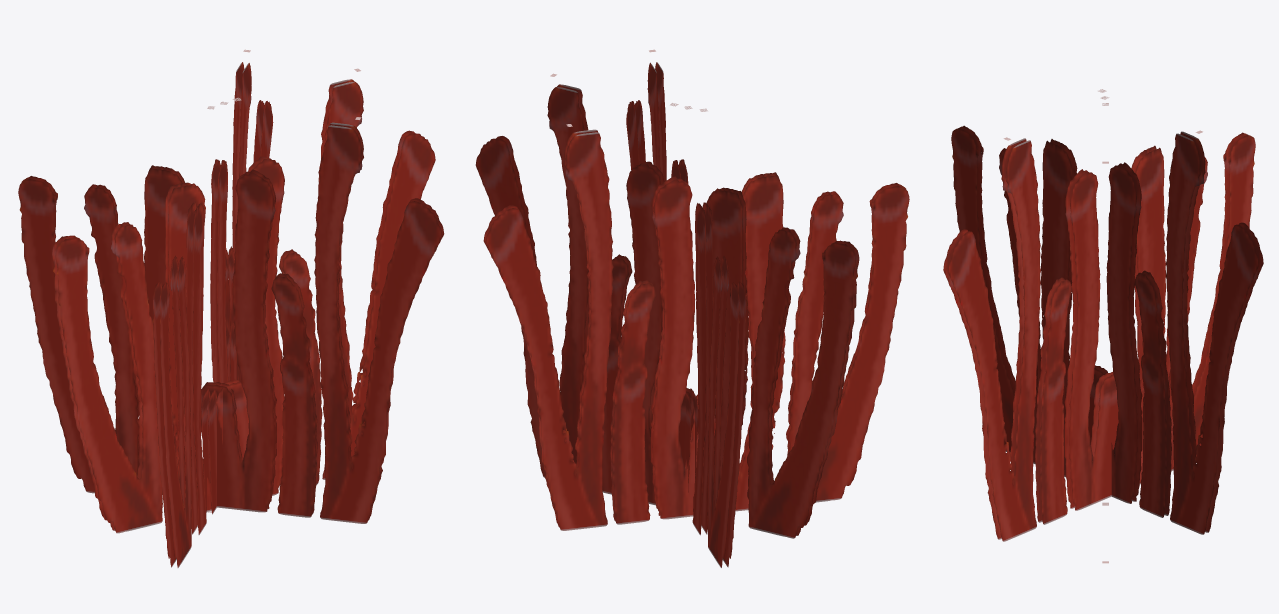
The model's file is Tubecoral2.obj.
3 views of the same model, side by side, from view 1: azimuth 30°, elevation 25°; view 2: azimuth 150°, elevation 25°; view 3: azimuth 270°, elevation 25° (orthographic).
Parts seen in each view (by area): view 1: polySurface19; view 2: polySurface19; view 3: polySurface19.
Part boxes in pixels (bbox=[...]): polySurface19: bbox=[18, 49, 444, 567]; polySurface19: bbox=[475, 49, 909, 567]; polySurface19: bbox=[943, 89, 1263, 563].
Bounding box in the file's own units: 4.48 × 4.48 × 3.28.
